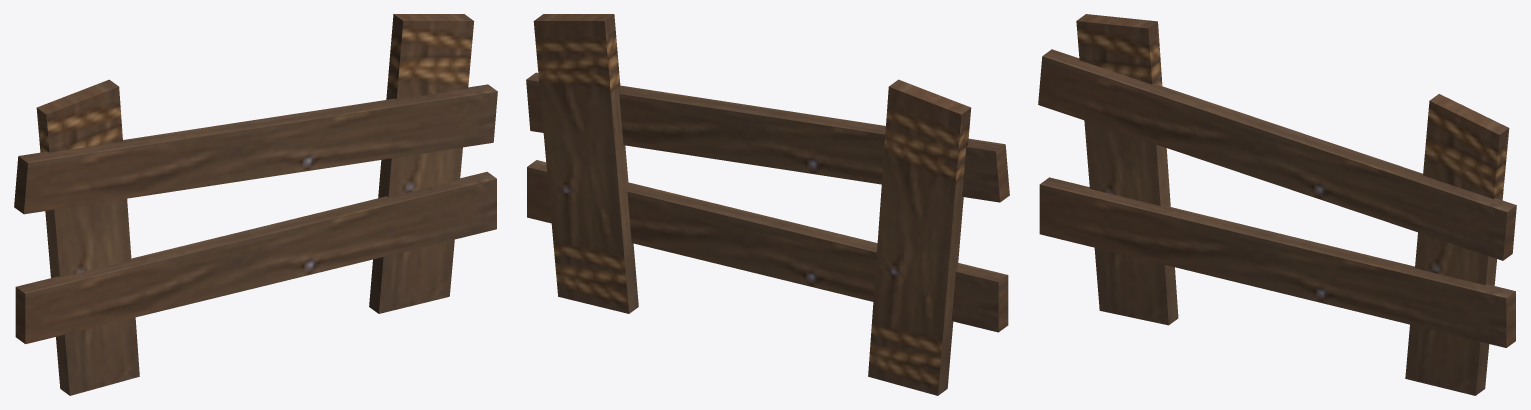
File: ice_fence_2.FBX
3 views of the same model, side by side, from view 1: azimuth 30°, elevation 25°; view 2: azimuth 150°, elevation 25°; view 3: azimuth 330°, elevation 25° (orthographic).
Parts seen in each view (by area): view 1: Object037; view 2: Object037; view 3: Object037.
Part boxes in pixels (<box>): Object037: <box>14,14,497,395</box>; Object037: <box>526,14,1009,395</box>; Object037: <box>1038,14,1516,395</box>.
Size of the model in its own units: 50.5 by 3.28 by 30.26.
